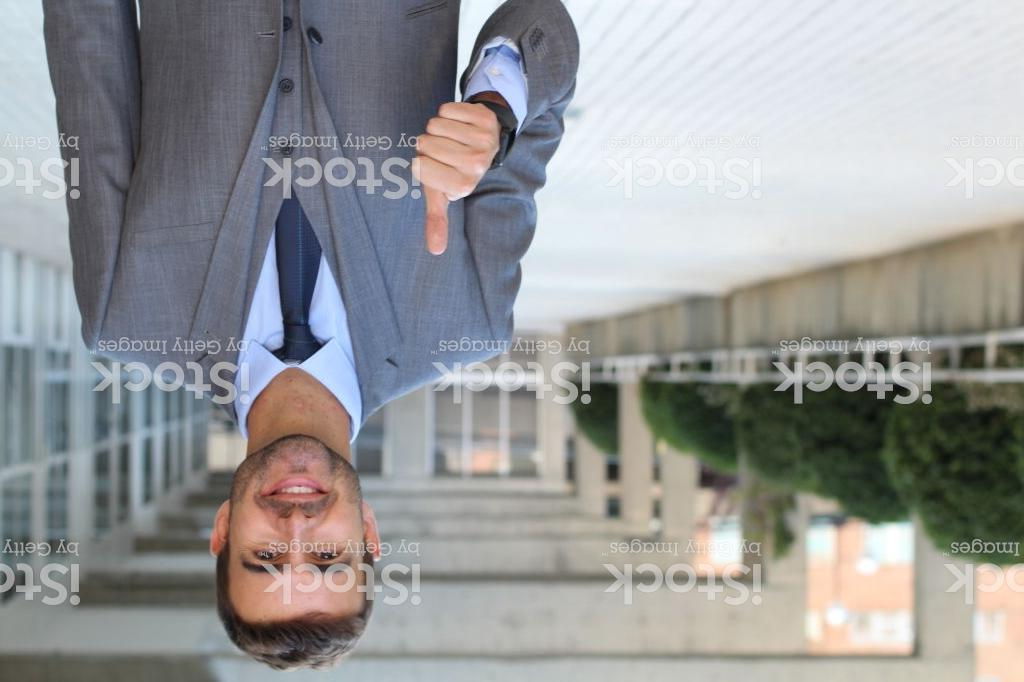thumbsdown: (409, 98, 502, 257)
